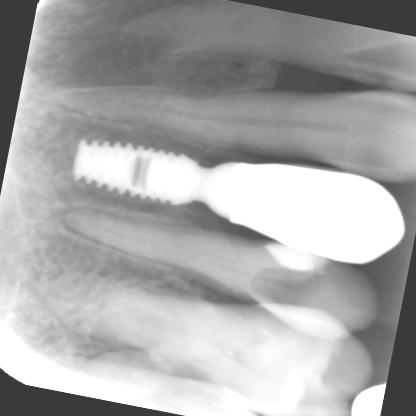Bicon: (49, 118, 260, 246)
